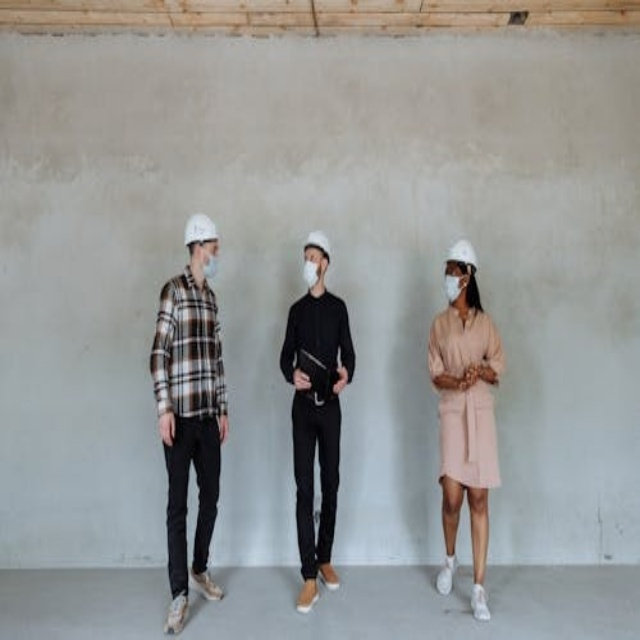Mascara: (444, 273, 467, 303), (303, 259, 321, 288), (201, 252, 217, 280)
Sin_guantes: (157, 406, 178, 448)
